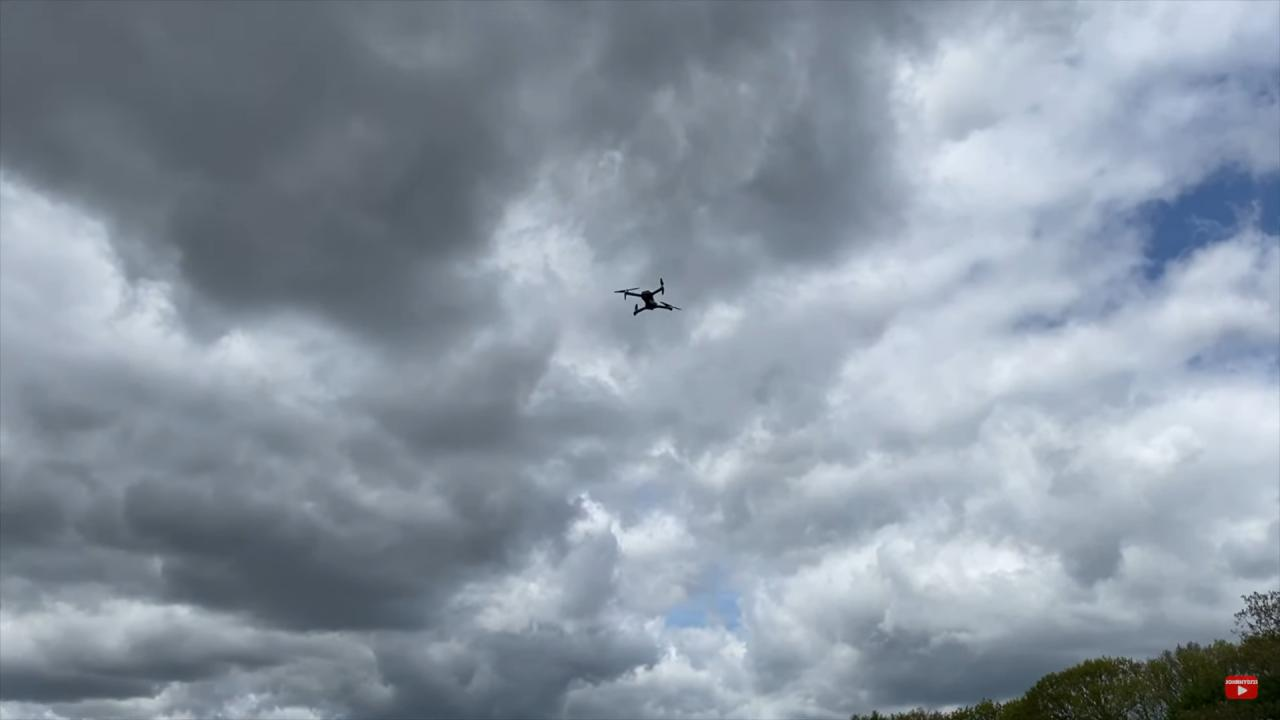Drone: (603, 266, 689, 327)
